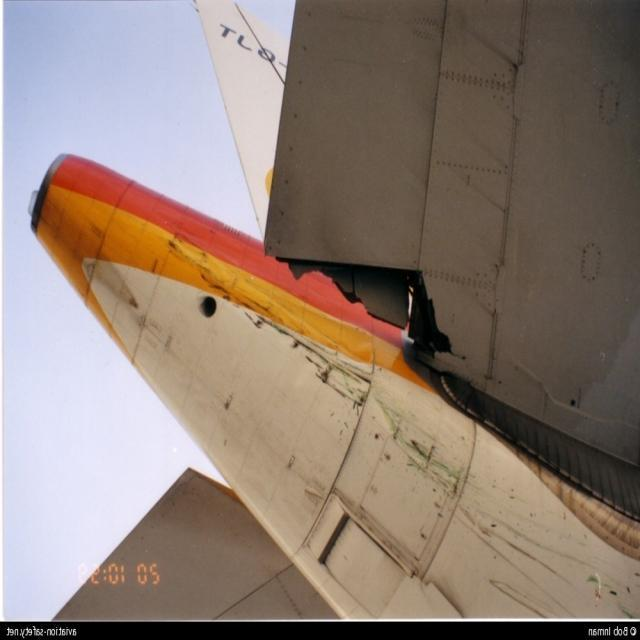crack: (272, 254, 474, 372)
